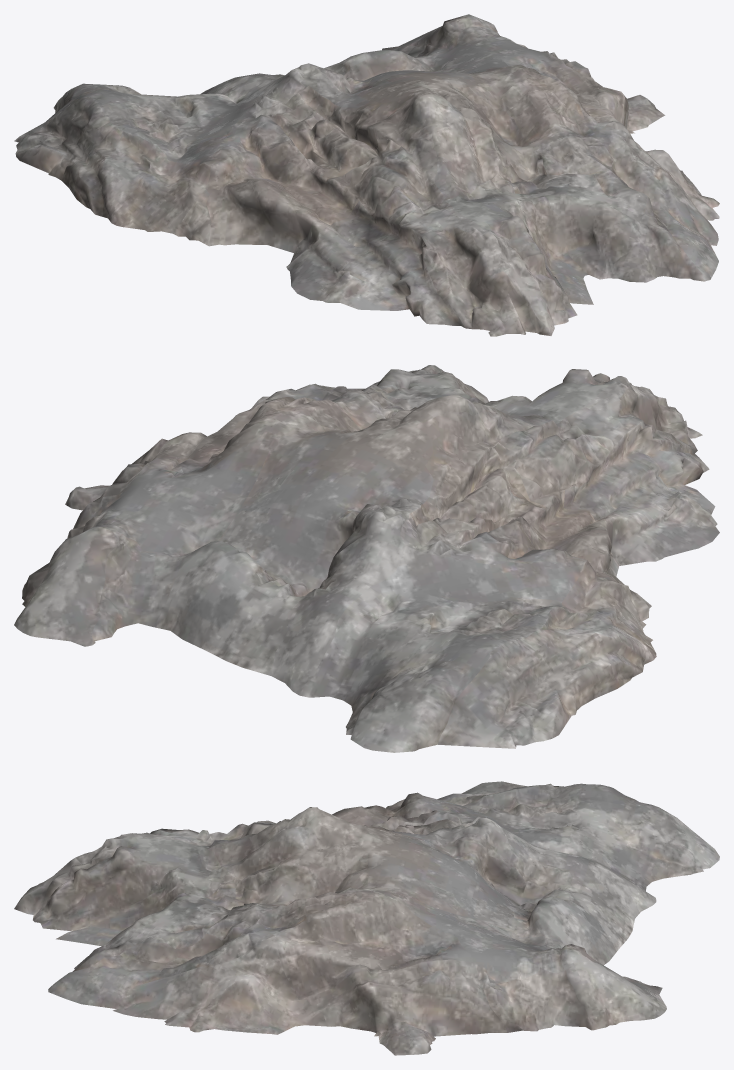
The model's file is cliff_hills_large_f.glb.
3 renders of one model, top to bottom at view 1: azimuth 30°, elevation 25°; view 2: azimuth 150°, elevation 25°; view 3: azimuth 270°, elevation 25°, orthographic. The views are drawn at different scales.
Visible parts, largest first — view 1: cliff_hills_large_f_LOD0; view 2: cliff_hills_large_f_LOD0; view 3: cliff_hills_large_f_LOD0.
Boxes of the visible parts, x1,y1,x2,y2 form: cliff_hills_large_f_LOD0: [14, 14, 719, 336]; cliff_hills_large_f_LOD0: [14, 365, 719, 752]; cliff_hills_large_f_LOD0: [14, 781, 719, 1055].
Bounding box in the file's own units: 48.28 × 10.3 × 57.75.
1 material, 1 textured.
